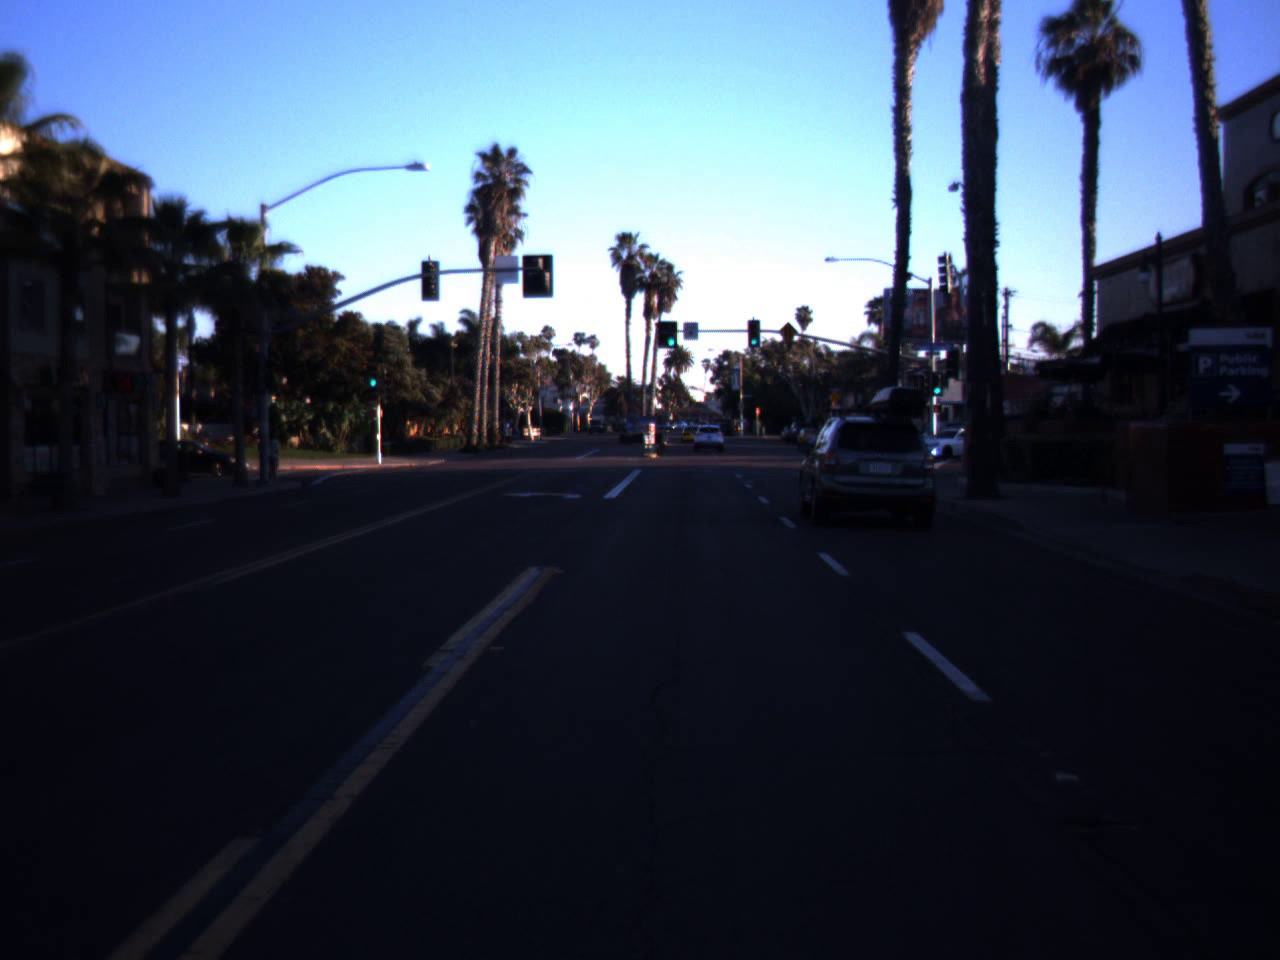go: (367, 363, 379, 388), (666, 322, 678, 347), (748, 322, 760, 347), (930, 374, 942, 394)
